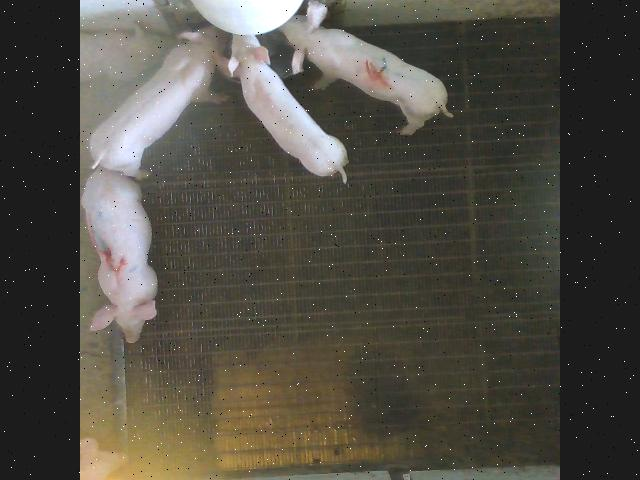pig-3: (82, 166, 158, 342)
pig-4: (281, 0, 452, 134)
